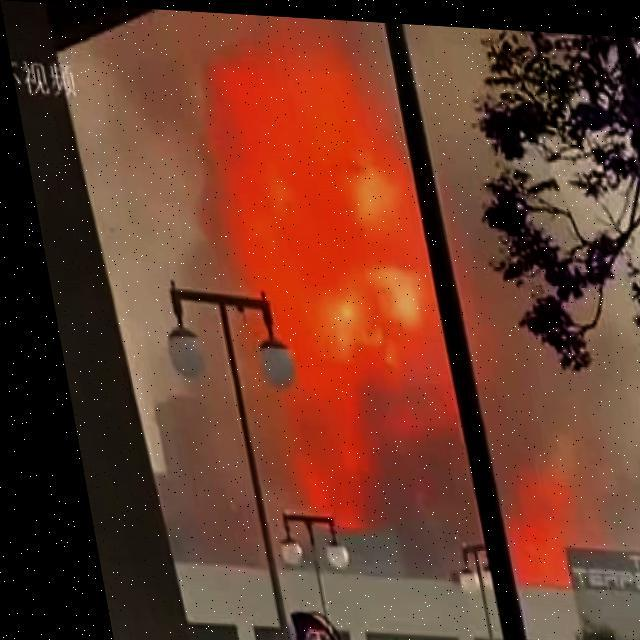Fire: (198, 36, 458, 535)
